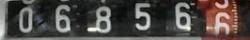digits: (94, 6, 112, 34), (213, 10, 231, 38), (174, 2, 192, 29), (134, 2, 151, 29), (54, 4, 70, 32), (18, 6, 33, 32)
